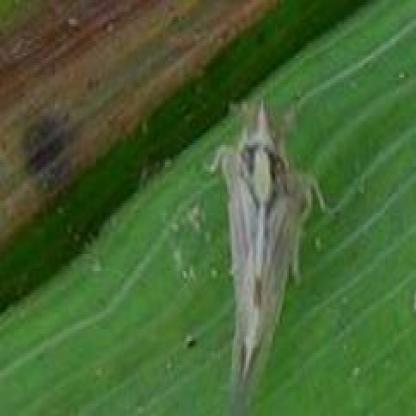brown-planthopper: (227, 100, 314, 396)
